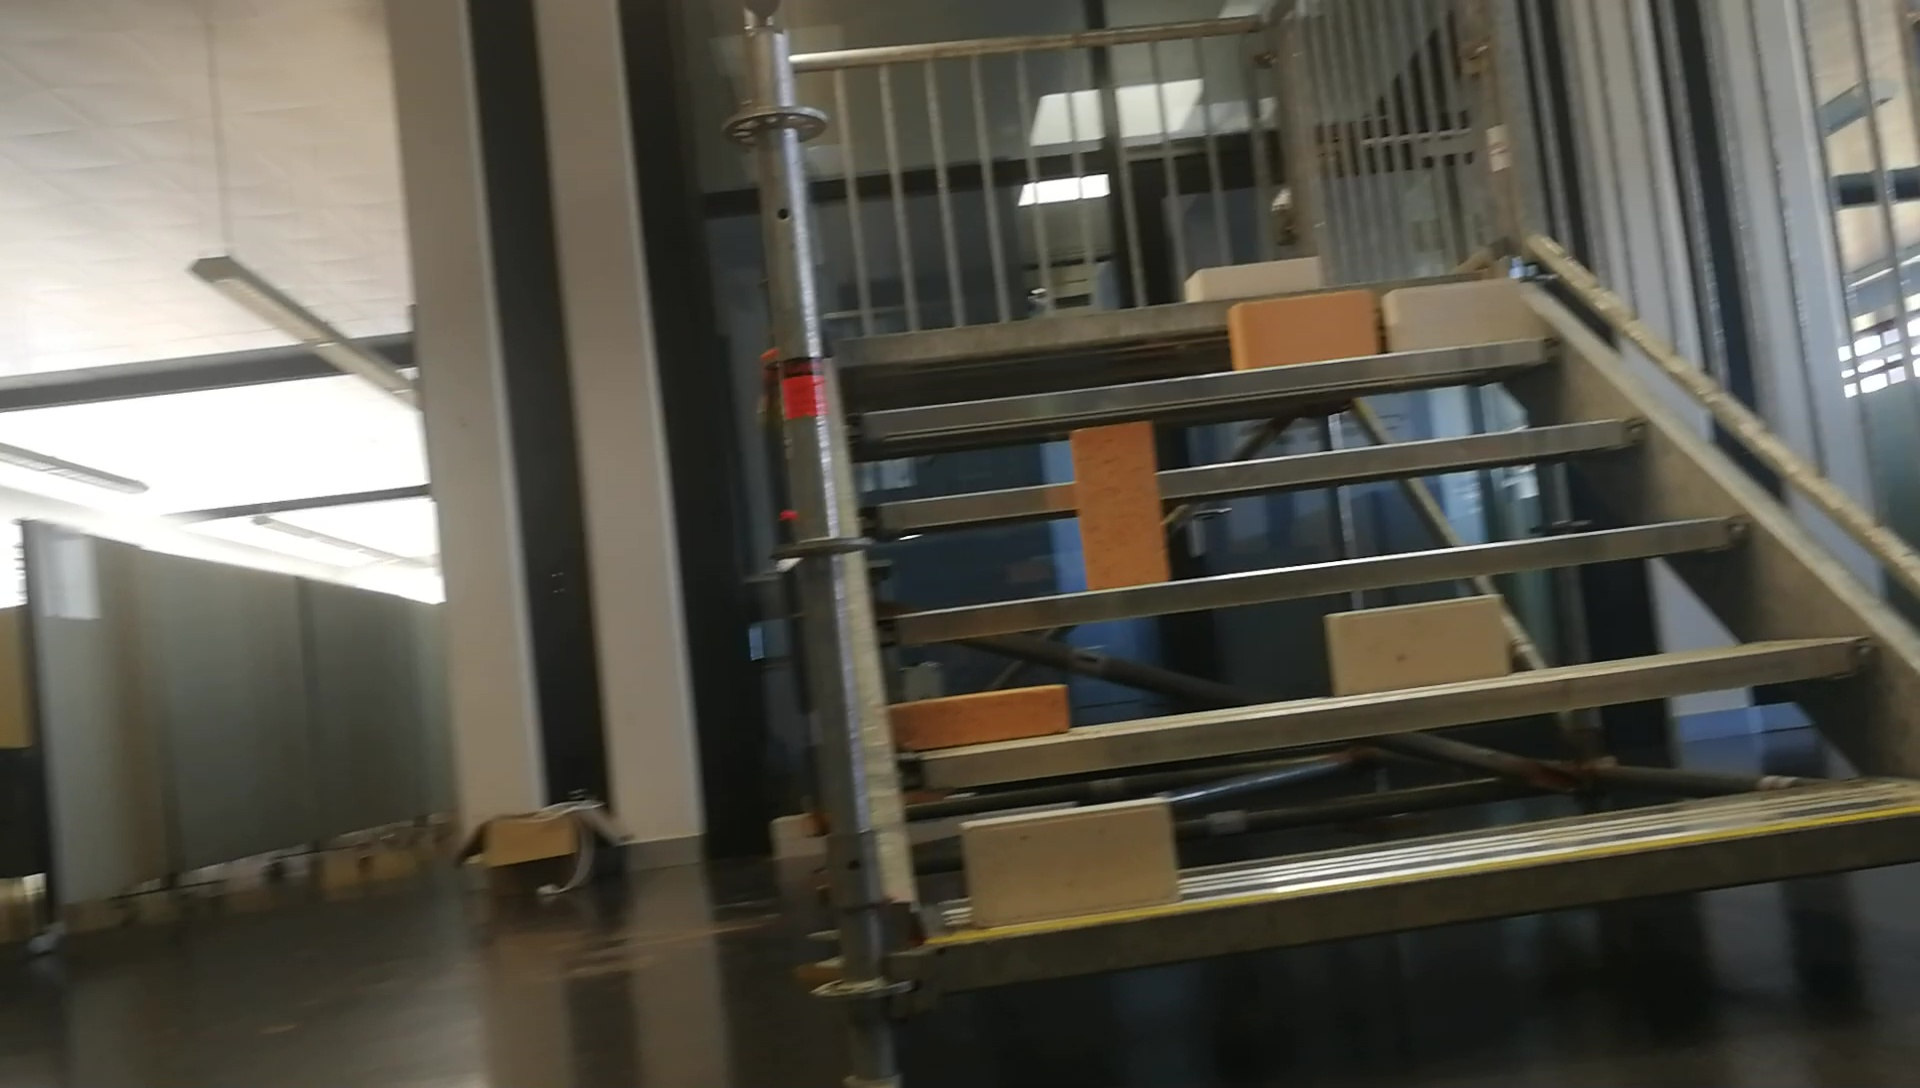brick: (960, 795, 1174, 927), (1328, 599, 1501, 692), (1072, 425, 1164, 591), (887, 687, 1068, 750), (1230, 291, 1371, 368), (1385, 282, 1523, 351), (1188, 257, 1317, 299)
edge: (928, 808, 1917, 993), (899, 634, 1878, 790), (877, 520, 1747, 648), (862, 415, 1646, 530), (843, 335, 1557, 437)
steps: (848, 237, 1915, 1012)
